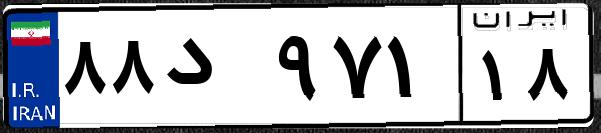1: (385, 28, 445, 110), (475, 38, 525, 113)
7: (330, 28, 385, 110)
8: (57, 26, 110, 100), (525, 38, 570, 115), (110, 28, 158, 98)
9: (270, 28, 330, 110)
د: (158, 20, 270, 120)
